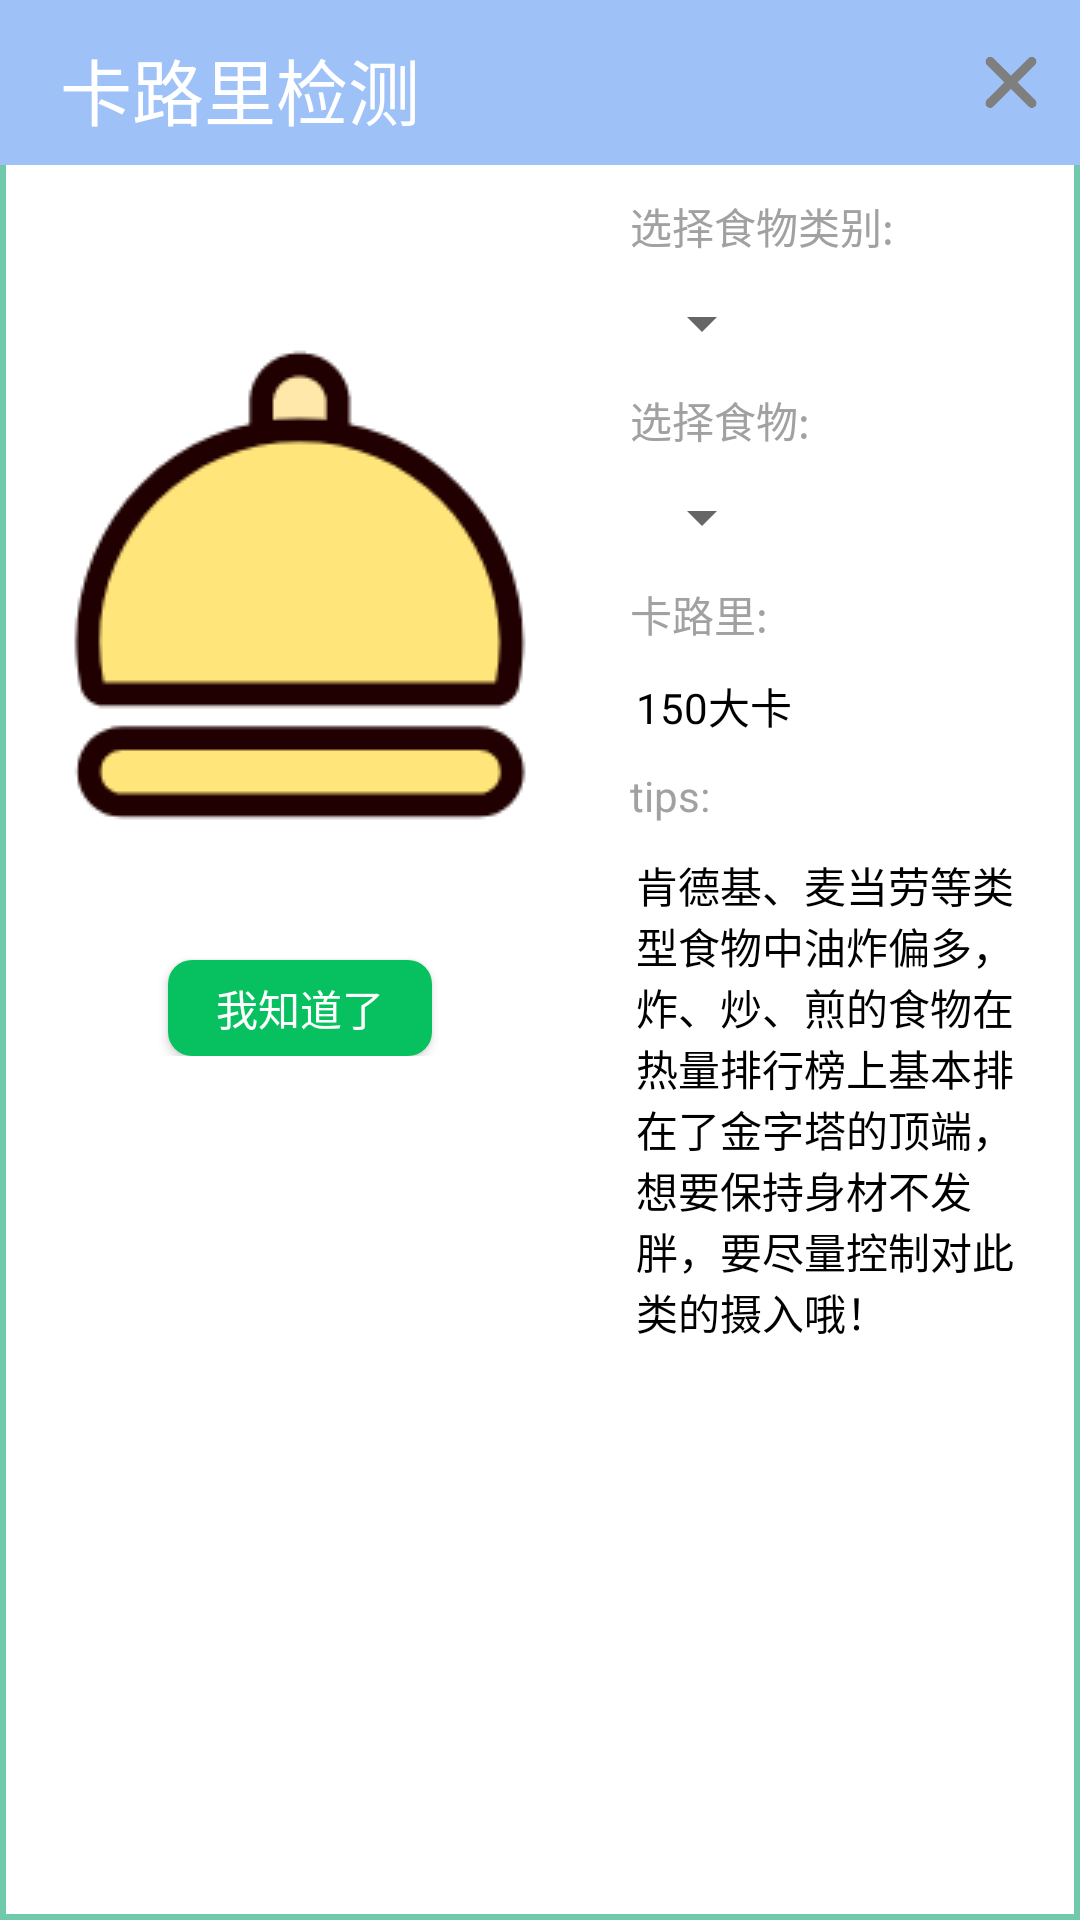

Icons on this 1080 x 1920 Android screen, each with its box as box(x1, y1, x2, y2):
cha: box(985, 57, 1037, 108)
